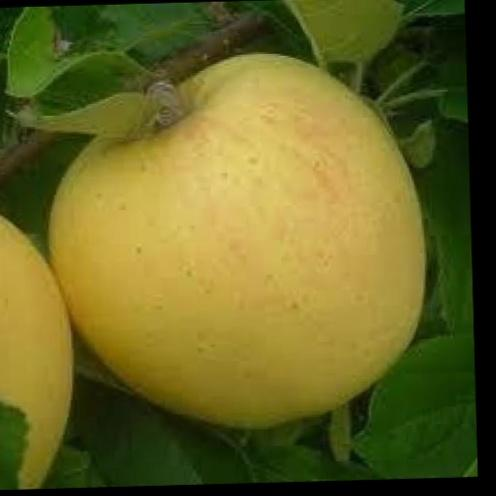green apple: (48, 47, 442, 436)
